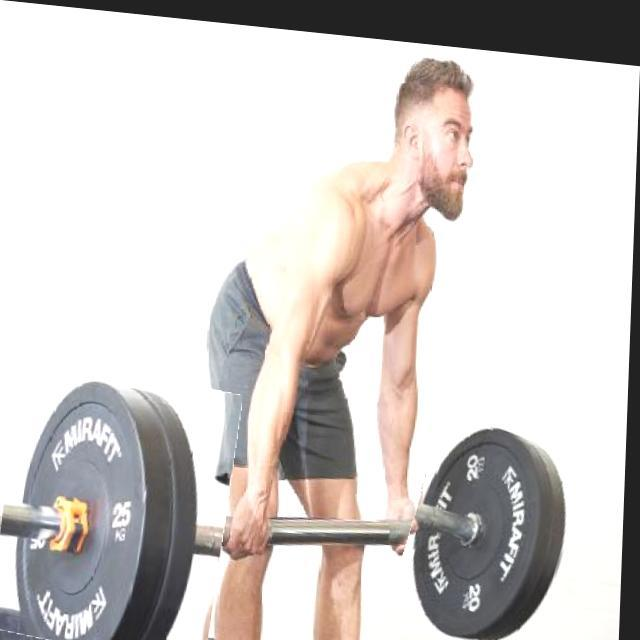barbell: (1, 353, 239, 640), (402, 396, 587, 640)
